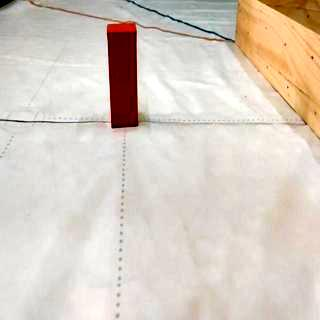redbox: (107, 22, 138, 128)
